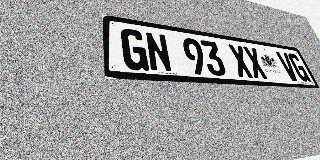3: (200, 40, 227, 76)
9: (181, 37, 209, 75)
G: (120, 28, 149, 71), (287, 53, 311, 82)
N: (144, 31, 173, 73)
V: (275, 51, 300, 81)
X: (227, 44, 254, 78), (242, 46, 269, 79)
